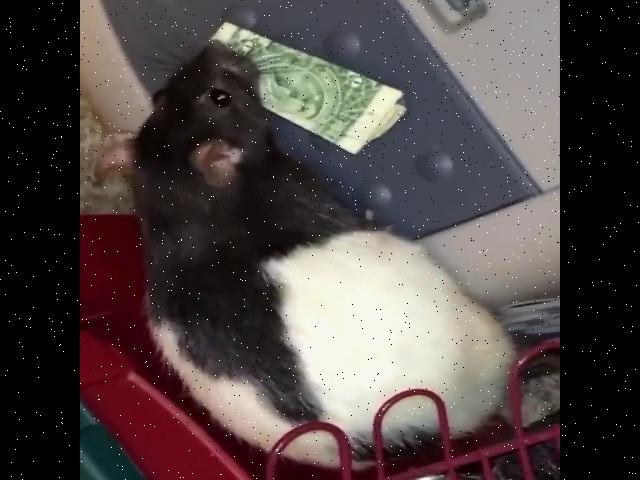Tikus: (91, 37, 515, 472)
